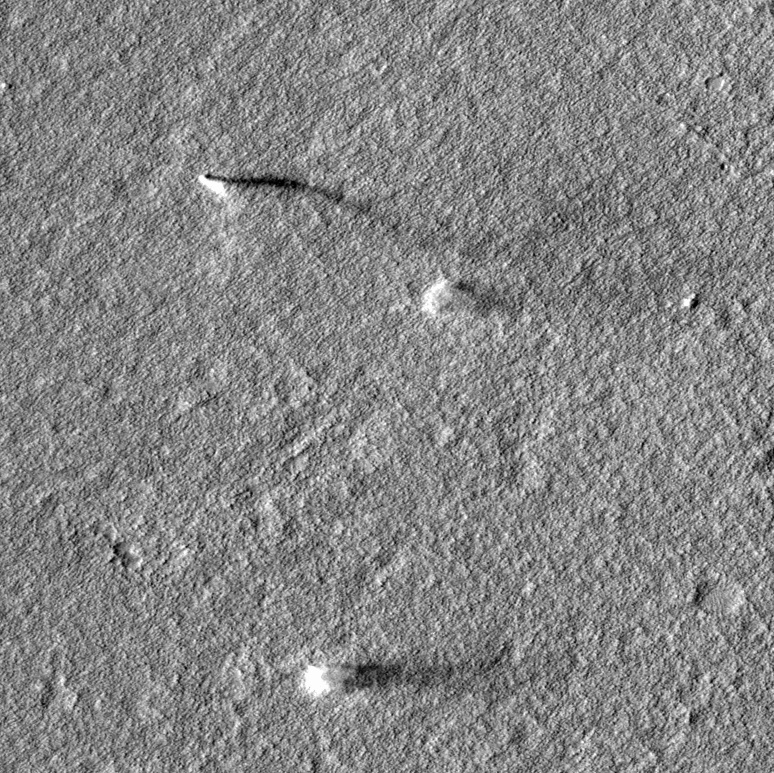dust_devil: (295, 655, 464, 701), (194, 168, 347, 213), (415, 273, 506, 318)
